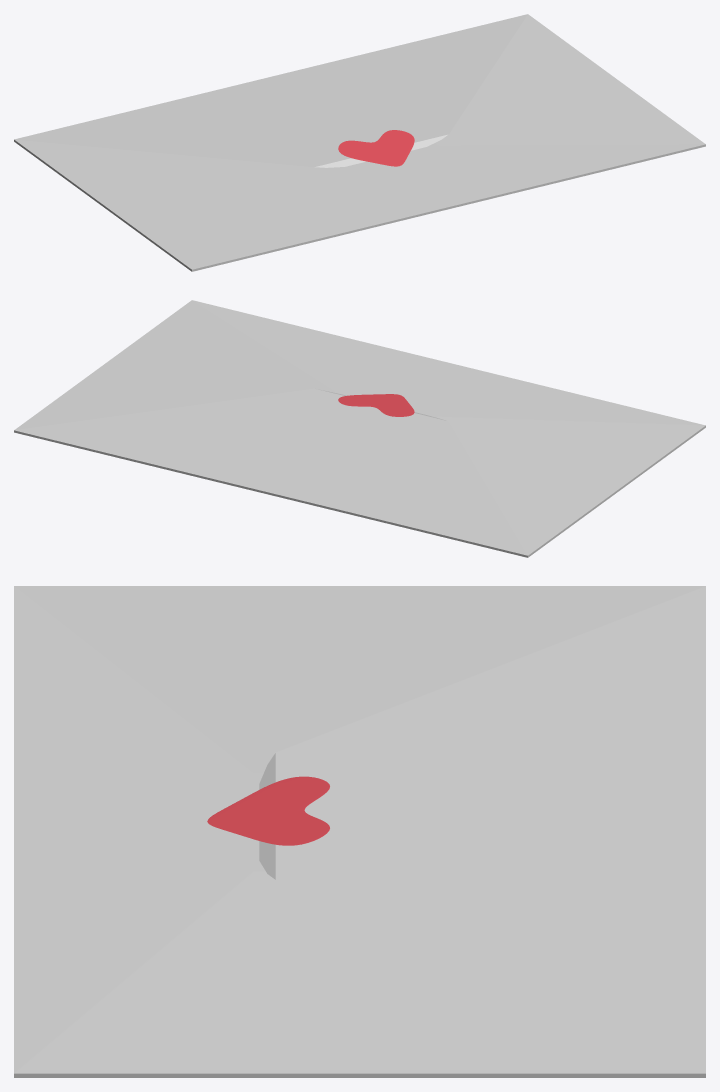
3 views of the same model, one above another, from view 1: azimuth 30°, elevation 25°; view 2: azimuth 150°, elevation 25°; view 3: azimuth 270°, elevation 25° (orthographic). The views are drawn at different scales.
Parts seen in each view (by area): view 1: 平面.003, 平面.005, 平面.004, 平面.002, 立方体, 平面.008, 平面.006, 平面.009; view 2: 平面.003, 平面.004, 平面.005, 平面.002, 平面.007, 立方体, 平面.006; view 3: 平面.003, 平面.002, 平面.005, 平面.004, 立方体, 平面.001, 平面.009.
Part boxes in pixels (x1,y1,x2,y2): 平面.003: [15, 14, 527, 166]; 平面.005: [192, 143, 704, 269]; 平面.004: [14, 139, 335, 269]; 平面.002: [435, 14, 705, 145]; 立方体: [338, 130, 414, 166]; 平面.008: [192, 144, 705, 271]; 平面.006: [14, 140, 191, 271]; 平面.009: [315, 134, 447, 167]; 平面.003: [15, 388, 527, 555]; 平面.004: [437, 416, 705, 555]; 平面.005: [193, 300, 704, 425]; 平面.002: [14, 300, 335, 430]; 平面.007: [14, 430, 527, 557]; 立方体: [338, 394, 414, 416]; 平面.006: [528, 426, 705, 557]; 平面.003: [275, 586, 705, 1073]; 平面.002: [14, 871, 705, 1073]; 平面.005: [14, 586, 265, 1073]; 平面.004: [14, 586, 705, 773]; 立方体: [207, 776, 329, 845]; 平面.001: [14, 1073, 705, 1077]; 平面.009: [259, 753, 275, 879].
Size of the model in its own units: 50.01 by 1.28 by 30.
